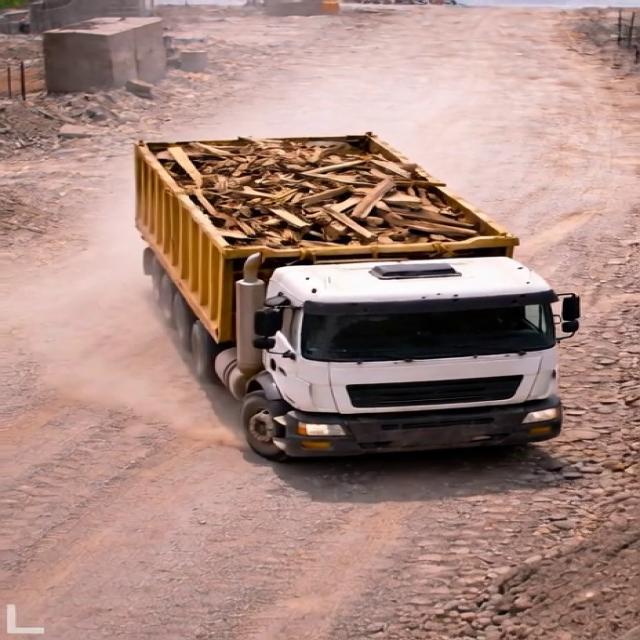trailer: (126, 133, 531, 260)
truck: (114, 130, 588, 470)
